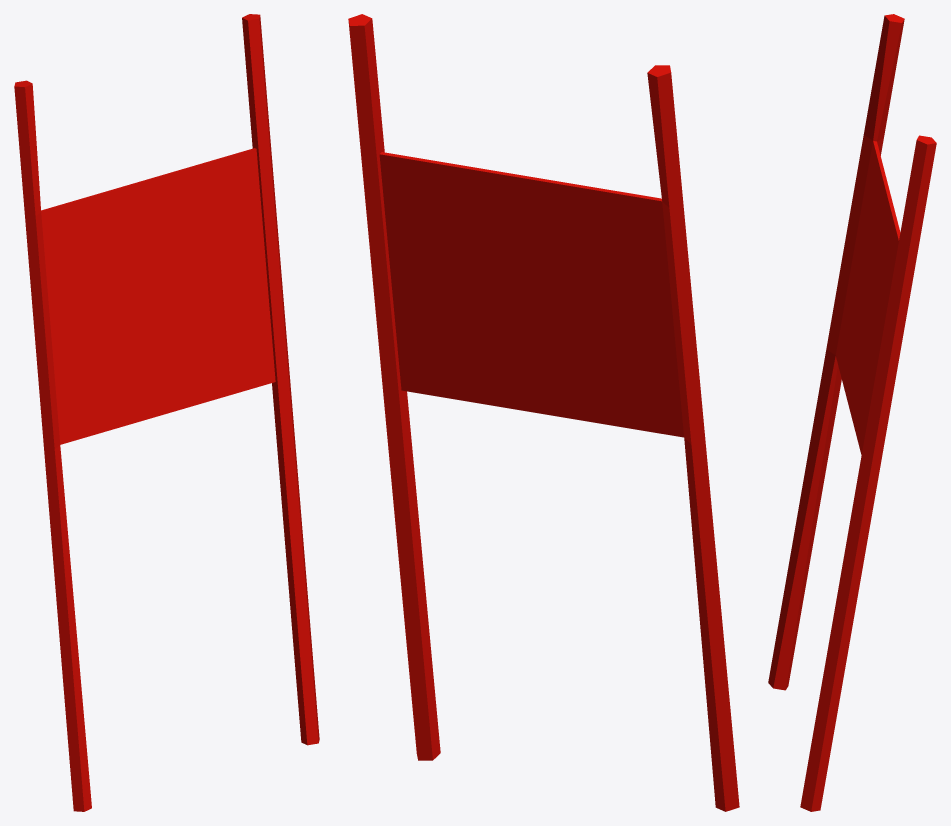
File: OBstacleOnntheWay.fbx
3 views of the same model, side by side, from view 1: azimuth 30°, elevation 25°; view 2: azimuth 150°, elevation 25°; view 3: azimuth 270°, elevation 25° (orthographic). The views are drawn at different scales.
Visible parts, largest first — view 1: Obstacles.007; view 2: Obstacles.007; view 3: Obstacles.007.
Boxes of the visible parts, x1,y1,x2,y2 form: Obstacles.007: (14,14,319,811); Obstacles.007: (348,14,739,811); Obstacles.007: (768,14,936,811).
Size of the model in its own units: 66.73 by 167 by 37.81.
